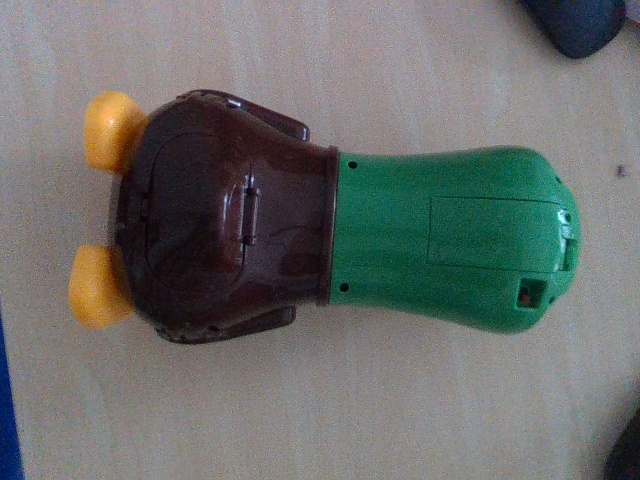screw hole: (341, 281, 350, 293), (347, 160, 358, 169), (564, 214, 572, 222)
toy: (67, 89, 581, 347)
